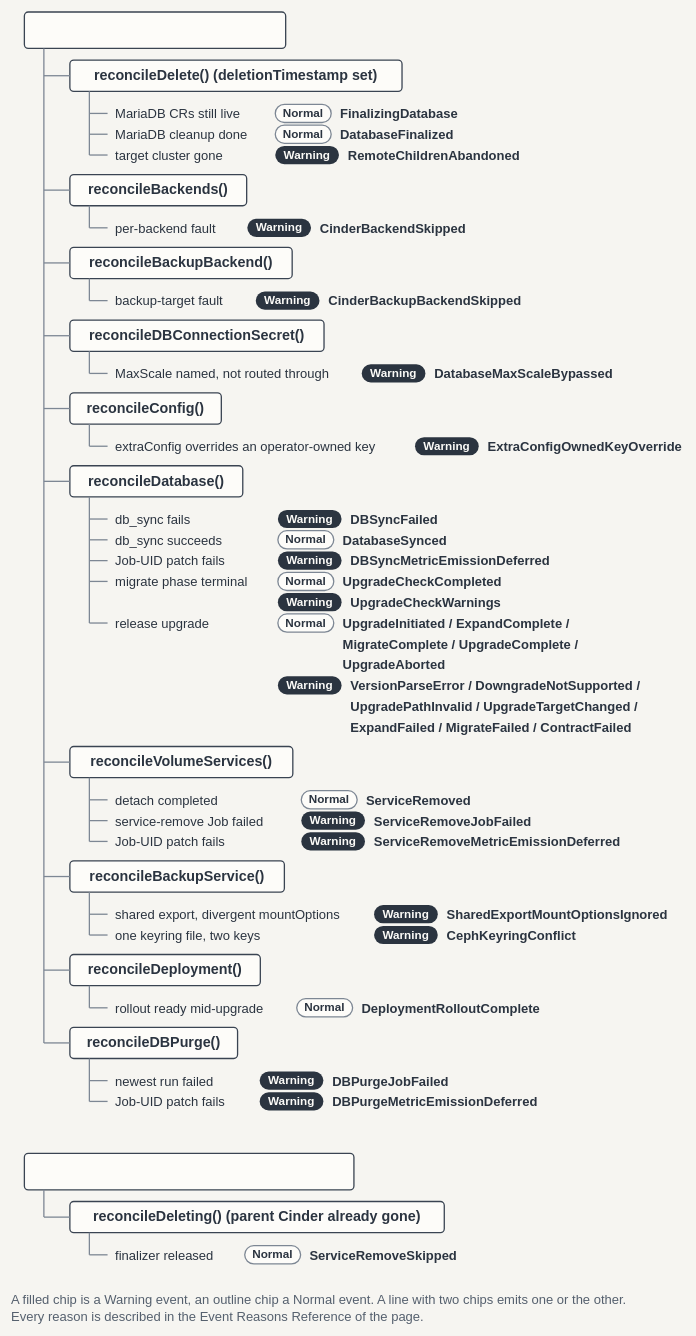
Image size: 696x1336. Some labels were removed from this diagram. The box of each missing label's shape, as (x1, y1, x2, y2) in pixels:
CinderBackendReconciler.Reconcile(): (23, 1152, 354, 1190)
CinderReconciler.Reconcile(): (23, 11, 286, 49)
